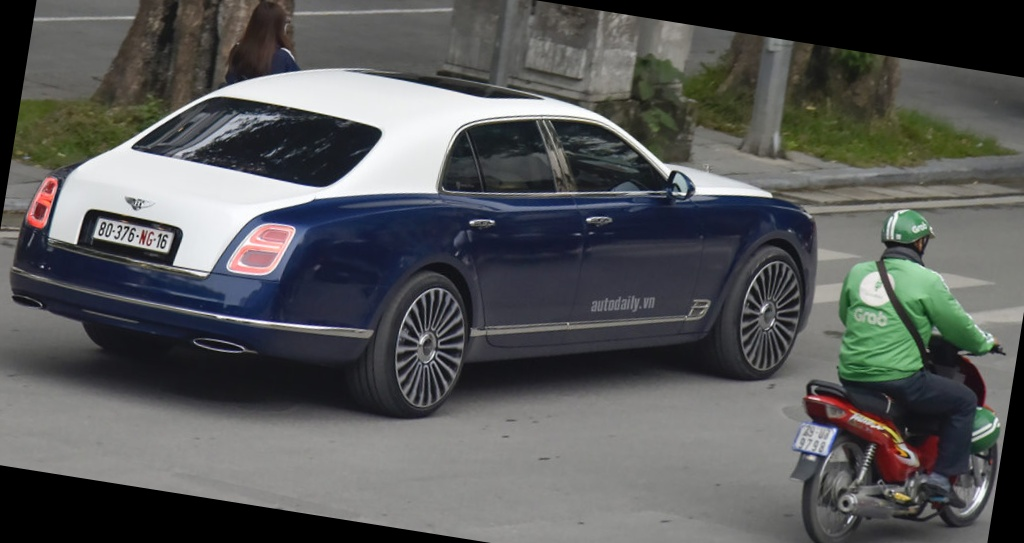plate: (85, 211, 177, 263), (787, 414, 840, 458)
